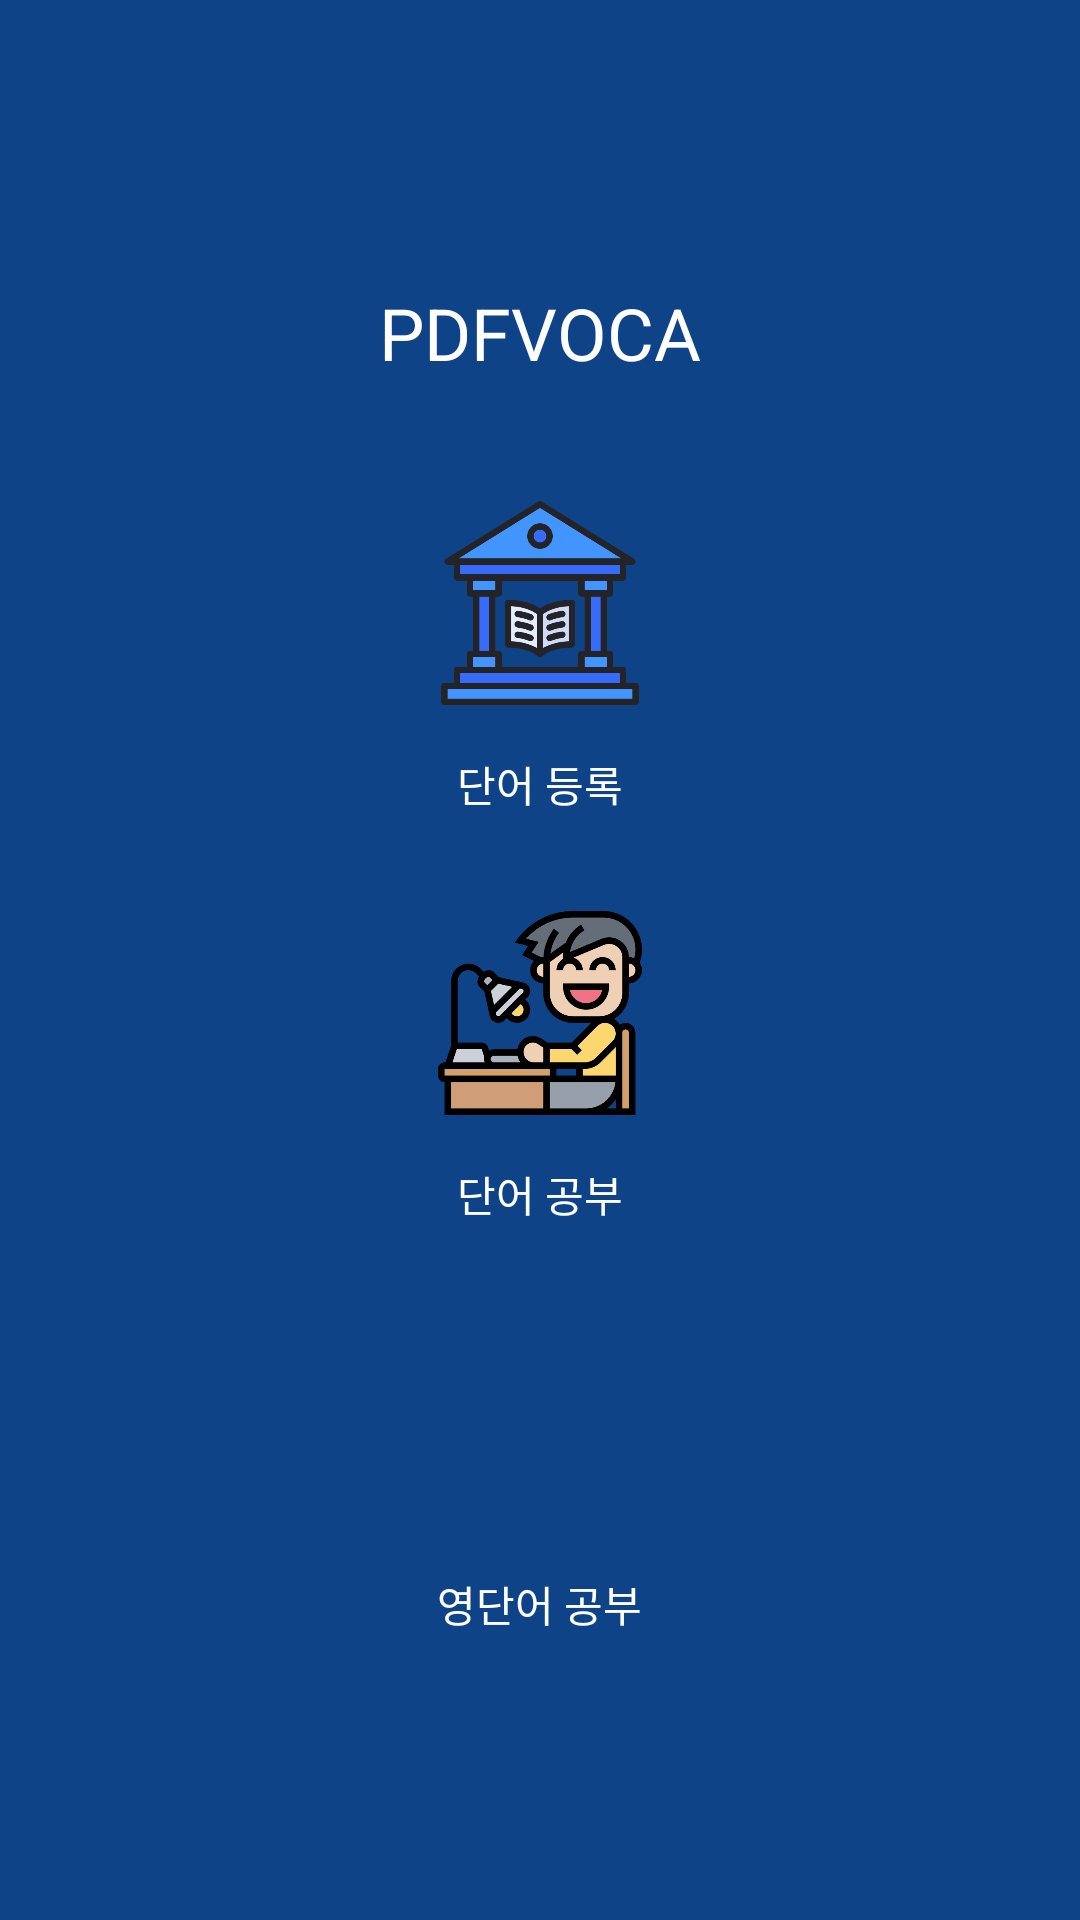

Screen size 1080px x 1920px. Icon name, then its center in pixels as (x=x, y=y):
library: (x=540, y=603)
